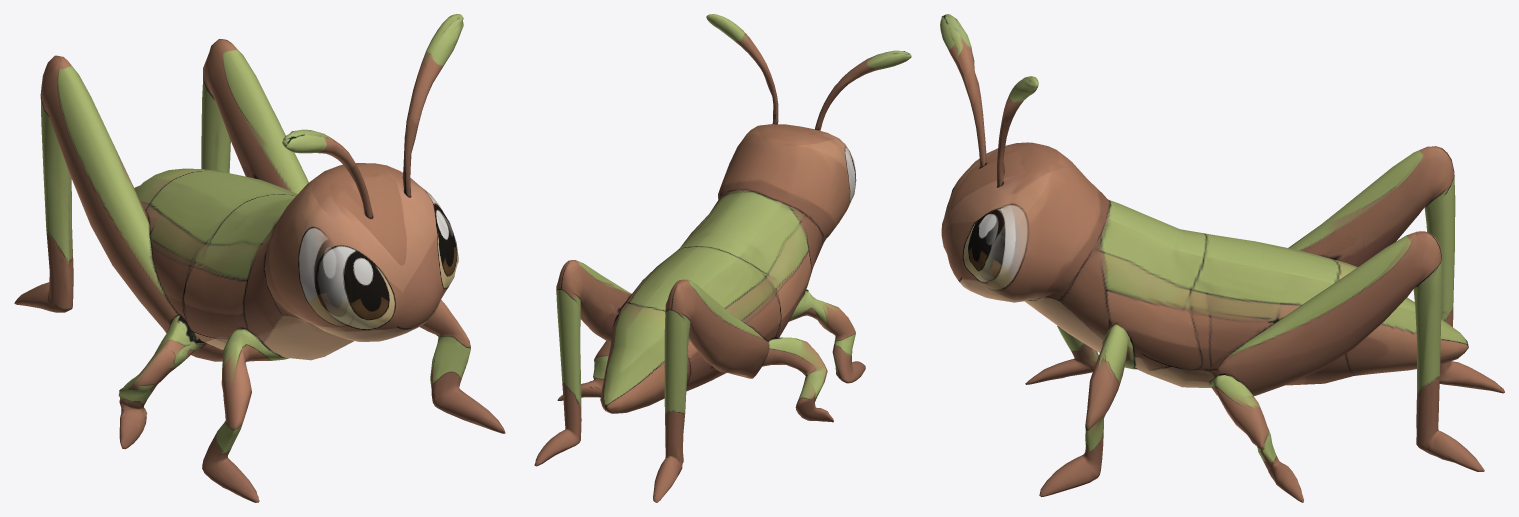
File: Pok35. Cicadot.glb
3 views of the same model, side by side, from view 1: azimuth 30°, elevation 25°; view 2: azimuth 150°, elevation 25°; view 3: azimuth 270°, elevation 25° (orthographic). The views are drawn at different scales.
Bounding box in the file's own units: 0.5571 × 0.7388 × 0.9551.
1 material, 1 textured.
